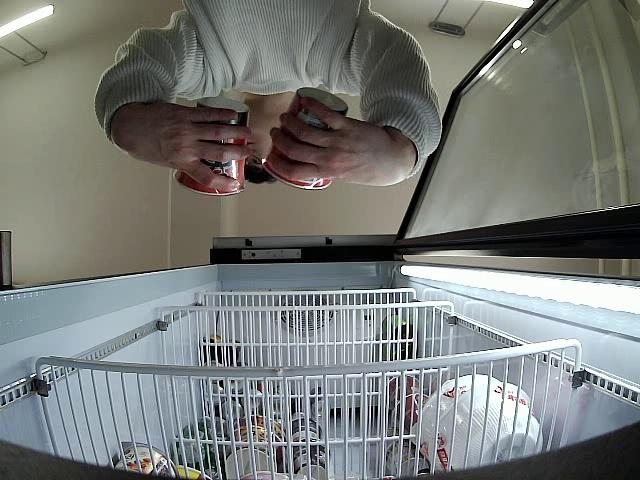00_hand: (111, 99, 251, 193), (265, 97, 410, 186)
02_shinRamen_S: (261, 88, 348, 191), (174, 95, 249, 194)
